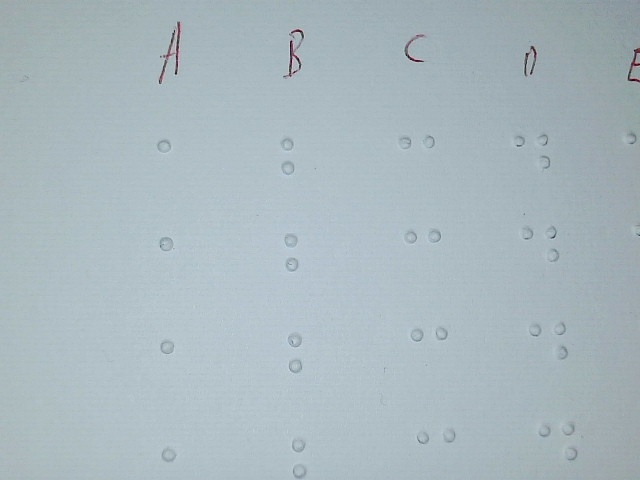A: (148, 130, 203, 211), (150, 225, 205, 306), (151, 331, 206, 412)
B: (274, 130, 325, 205), (276, 225, 327, 300), (280, 324, 331, 399)
C: (393, 128, 444, 205), (399, 223, 449, 298), (404, 320, 454, 395)
